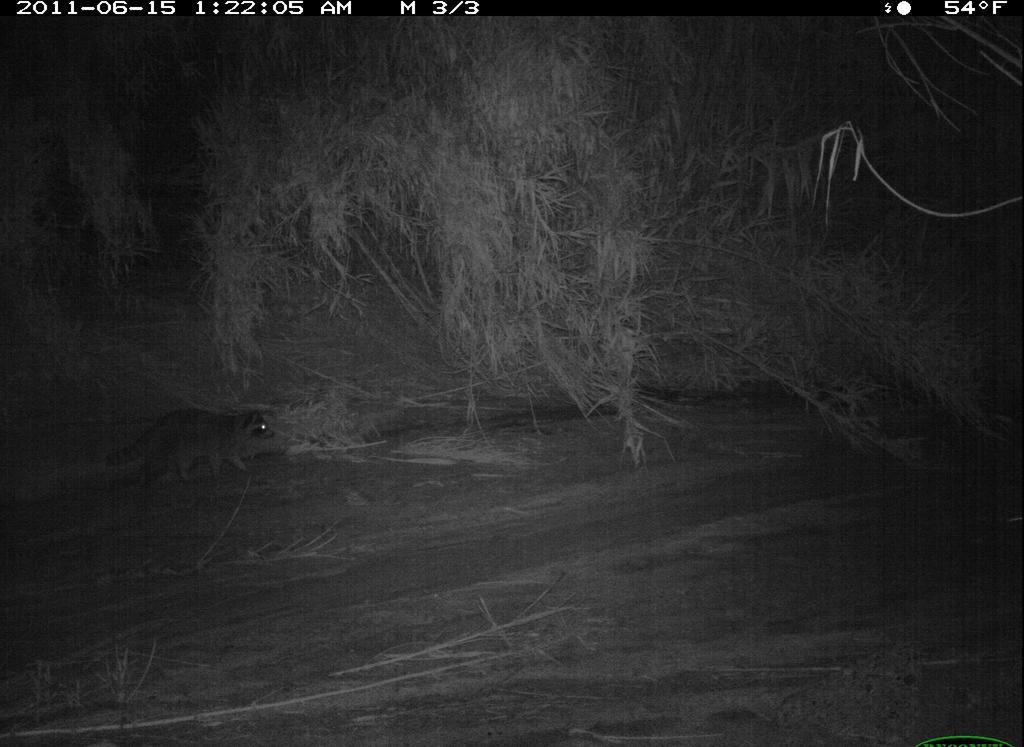raccoon: (97, 400, 294, 498)
